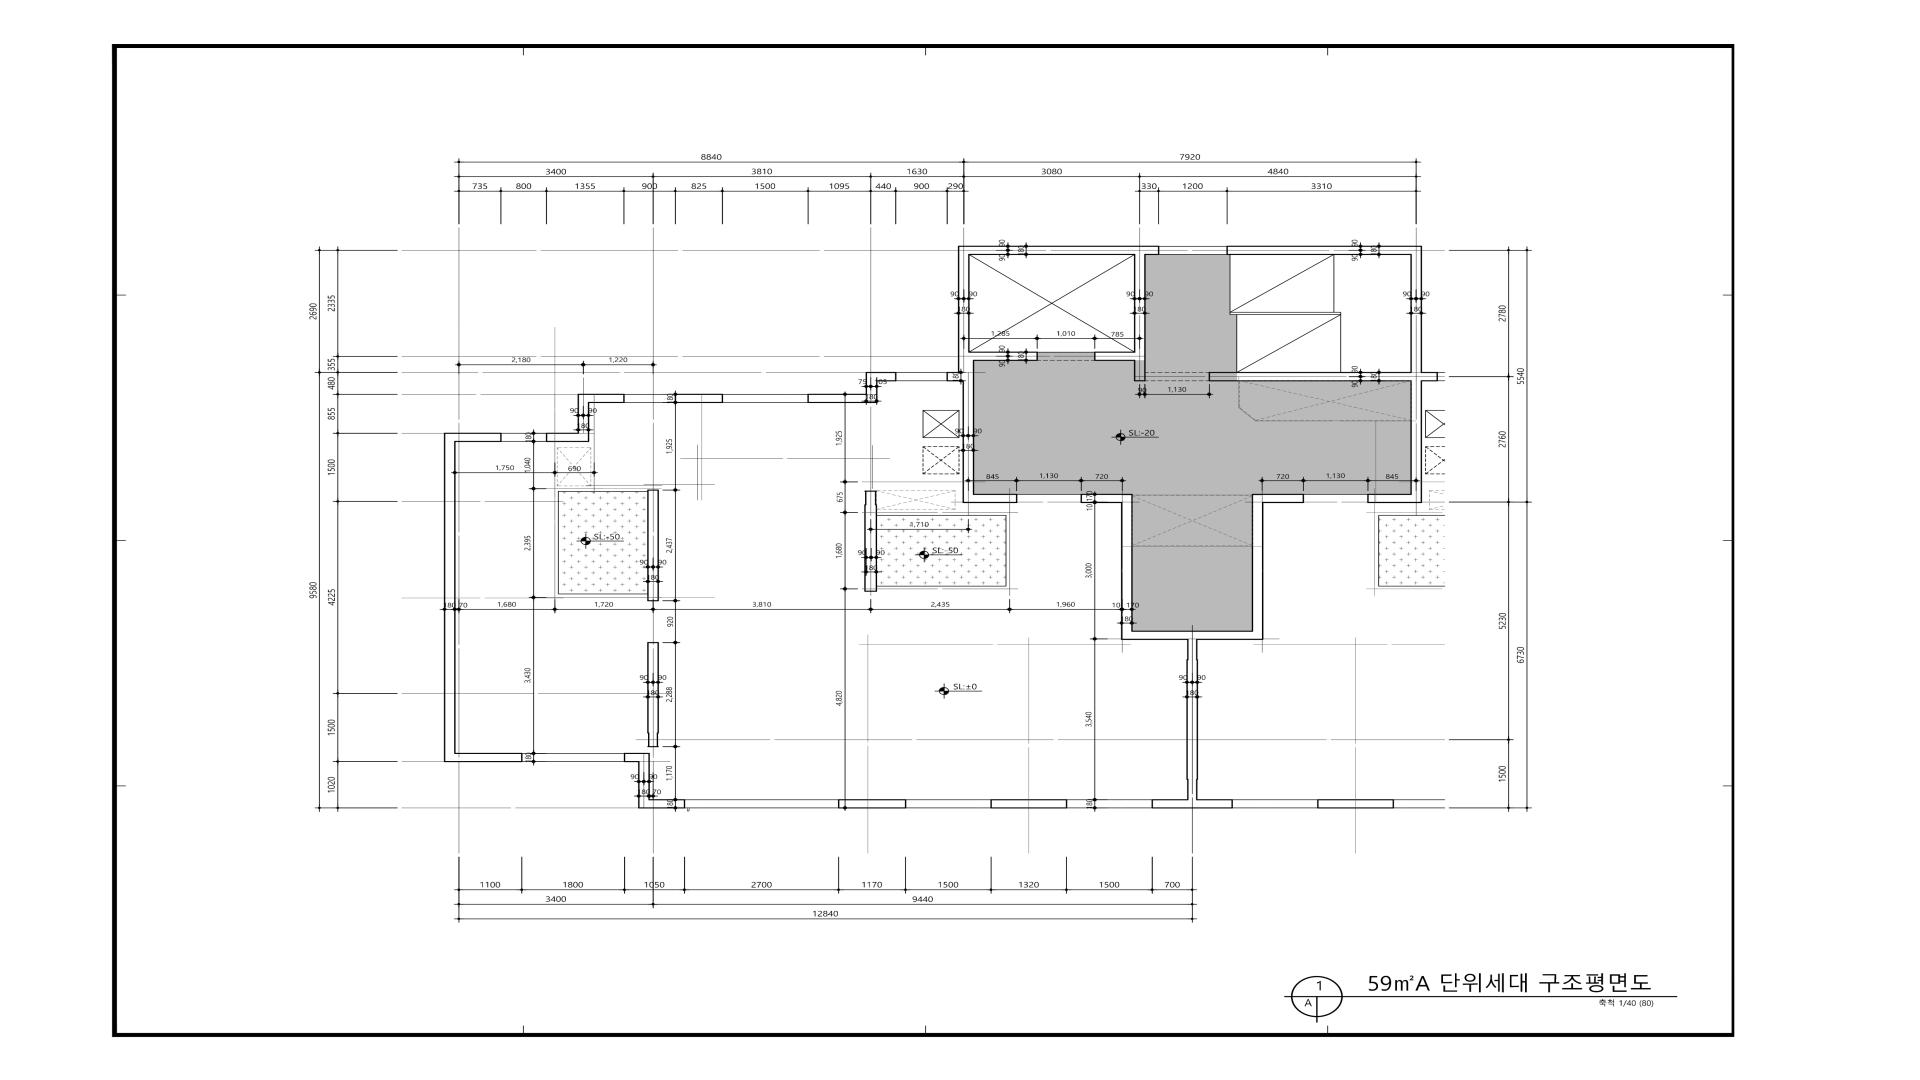wall: (444, 442, 456, 753), (1209, 372, 1411, 381), (1226, 246, 1422, 255), (970, 246, 1159, 255), (1121, 503, 1133, 631), (1252, 503, 1263, 631), (1410, 255, 1422, 372), (1134, 255, 1145, 381), (1410, 381, 1422, 494), (962, 381, 974, 494), (647, 490, 659, 601), (1187, 659, 1198, 780), (1121, 631, 1263, 640), (958, 246, 970, 352), (864, 504, 877, 592), (647, 642, 659, 733), (444, 753, 522, 762), (990, 799, 1067, 808), (1317, 799, 1394, 808), (808, 394, 877, 403), (838, 799, 906, 808), (974, 352, 1038, 361), (638, 762, 650, 808), (444, 433, 502, 442), (1367, 494, 1422, 503), (963, 494, 1017, 503), (1081, 494, 1133, 503), (1252, 494, 1304, 503), (577, 394, 589, 433), (675, 394, 723, 403), (546, 433, 589, 442), (1094, 352, 1134, 361), (1152, 799, 1187, 809), (589, 394, 625, 403), (958, 352, 974, 372), (650, 799, 685, 808), (1198, 799, 1233, 808), (1187, 780, 1198, 808), (947, 372, 974, 381), (866, 372, 877, 394), (624, 753, 650, 762), (1187, 640, 1197, 659), (877, 372, 896, 382), (1422, 372, 1438, 381), (865, 491, 876, 504), (648, 733, 658, 747), (1410, 372, 1422, 381)
